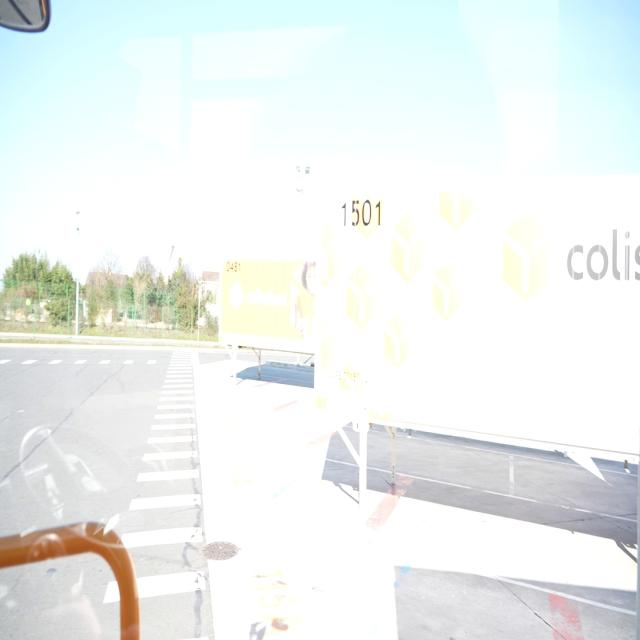Code: (336, 191, 384, 234), (222, 257, 245, 275)
